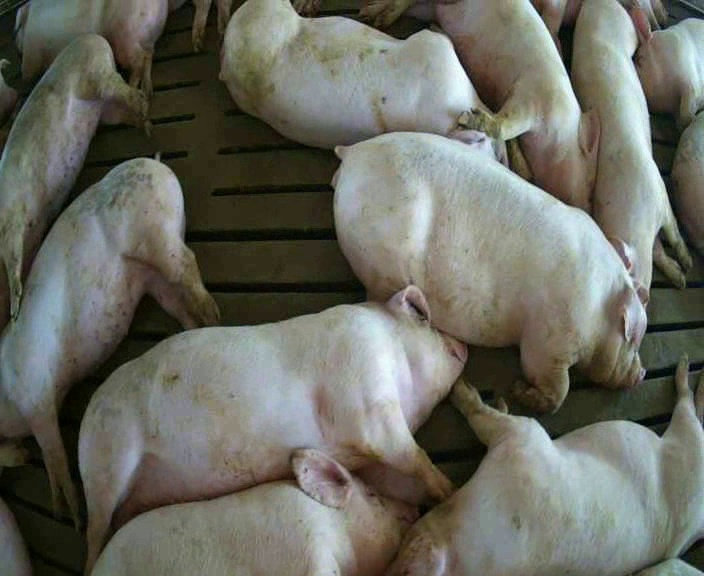pig: (79, 286, 465, 565), (333, 132, 649, 411), (0, 159, 218, 524), (389, 358, 703, 574), (220, 2, 531, 179), (0, 35, 146, 328), (92, 449, 416, 573), (436, 2, 599, 210), (16, 1, 167, 96), (631, 8, 703, 126)
